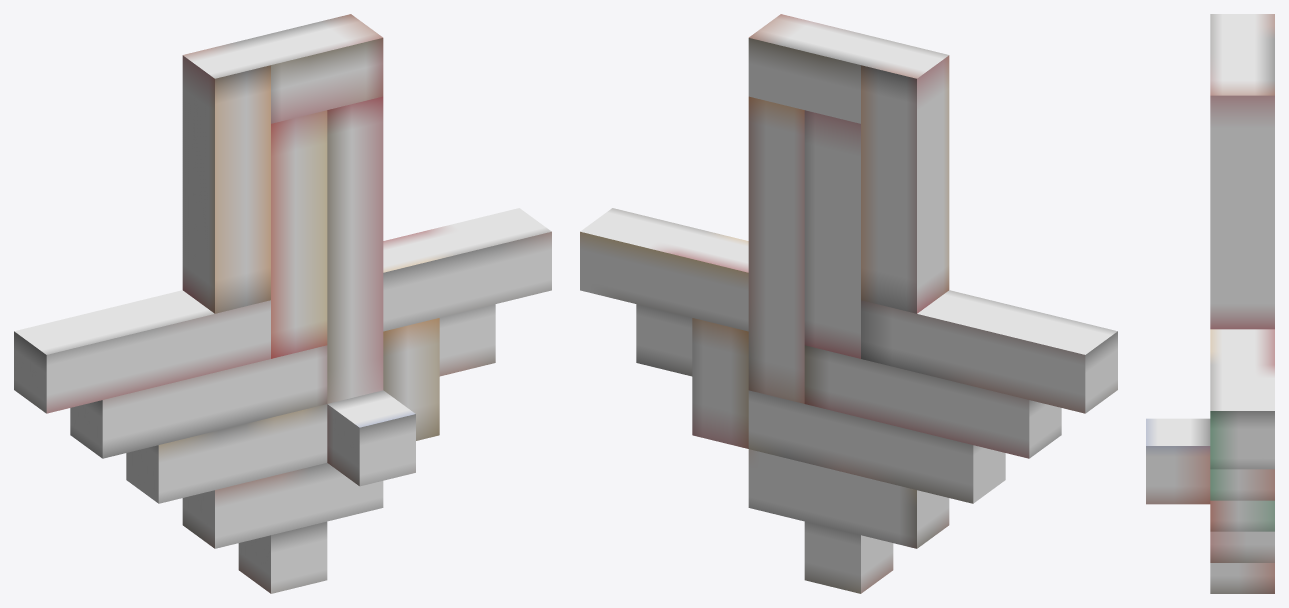
File: Matrix_15.dae
The picture shows the model from 3 angles, left to right: view 1: azimuth 30°, elevation 25°; view 2: azimuth 150°, elevation 25°; view 3: azimuth 270°, elevation 25°; orthographic projection.
Visible parts, largest first — view 1: Matrix_15; view 2: Matrix_15; view 3: Matrix_15.
Part boxes in pixels (<box>): Matrix_15: <box>14,14,551,593</box>; Matrix_15: <box>580,14,1117,593</box>; Matrix_15: <box>1146,14,1274,593</box>.
Bounding box in the file's own units: 9 × 9 × 2.
